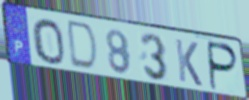3: (138, 32, 170, 83)
8: (105, 28, 132, 76)
D: (67, 19, 101, 74)
K: (173, 37, 204, 89)
O: (30, 17, 67, 67)
P: (207, 39, 240, 93)
